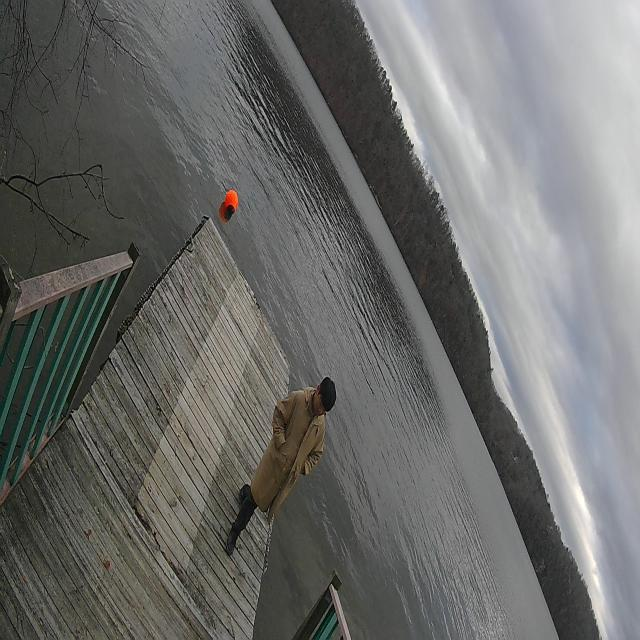Buoy: (224, 184, 241, 220)
